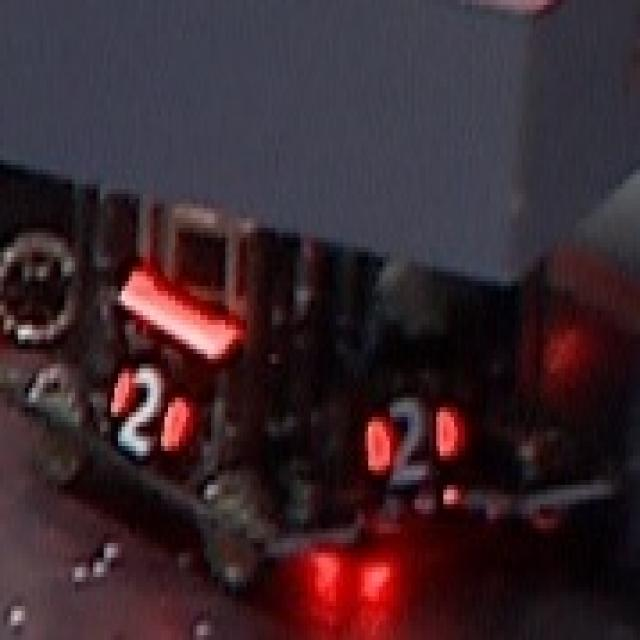R2: (358, 388, 458, 485), (104, 354, 190, 456)
